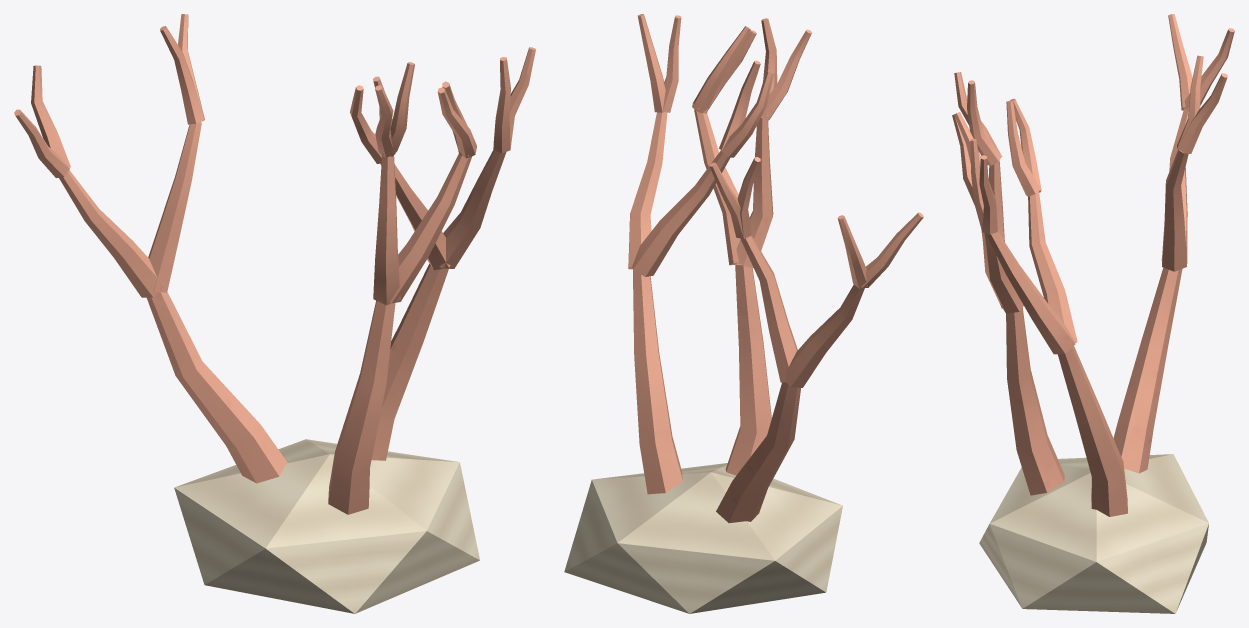
Rendered from coral_fan_b.gltf.
3 views of the same model, side by side, from view 1: azimuth 30°, elevation 25°; view 2: azimuth 150°, elevation 25°; view 3: azimuth 270°, elevation 25° (orthographic). The views are drawn at different scales.
Visible parts, largest first — view 1: coral_fan_b; view 2: coral_fan_b; view 3: coral_fan_b.
Part boxes in pixels (box(x1,y1,x2,y2)): coral_fan_b: box(14, 14, 535, 613); coral_fan_b: box(564, 14, 923, 613); coral_fan_b: box(952, 14, 1234, 613).
Bounding box in the file's own units: 0.9315 × 1.17 × 0.6136.
1 material, 1 textured.
